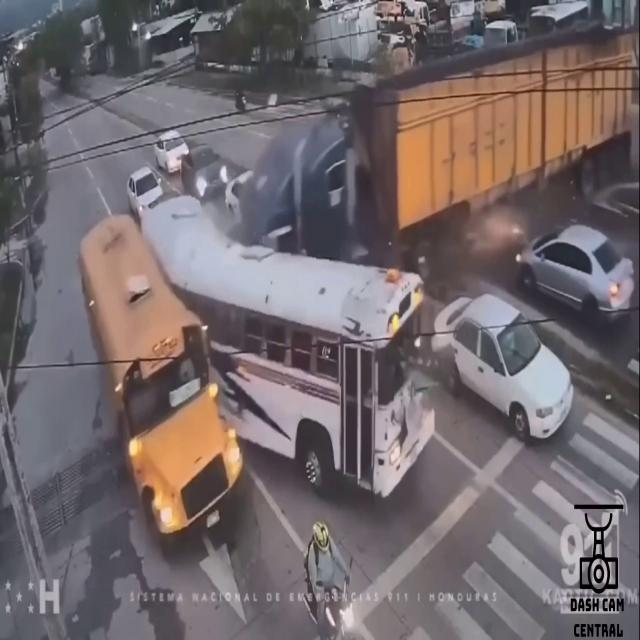accident: (86, 66, 432, 536)
